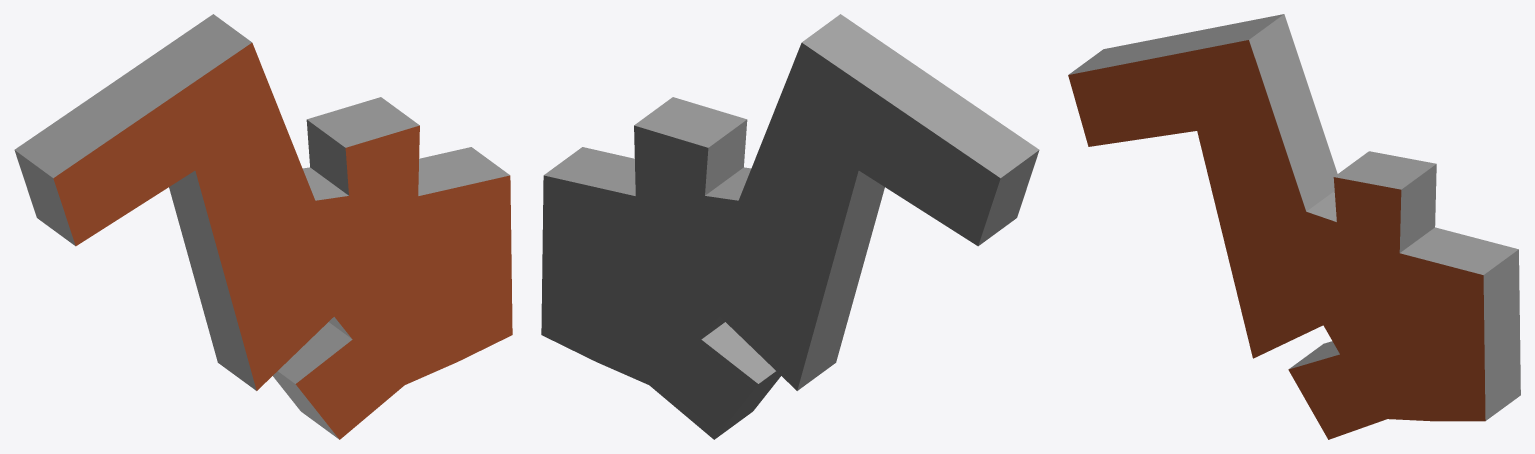
File: construction_6978_assumed_A_Casa_h6m.obj
3 renders of one model, left to right at view 1: azimuth 30°, elevation 25°; view 2: azimuth 150°, elevation 25°; view 3: azimuth 330°, elevation 25°, orthographic. The views are drawn at different scales.
Parts seen in each view (by area): view 1: construction_6978_assumed_A_Casa; view 2: construction_6978_assumed_A_Casa; view 3: construction_6978_assumed_A_Casa.
Part boxes in pixels (x1,y1,x2,y2): construction_6978_assumed_A_Casa: (14,14,512,439); construction_6978_assumed_A_Casa: (541,14,1039,439); construction_6978_assumed_A_Casa: (1068,14,1520,439).
Size of the model in its own units: 40.87 by 35.62 by 6.
